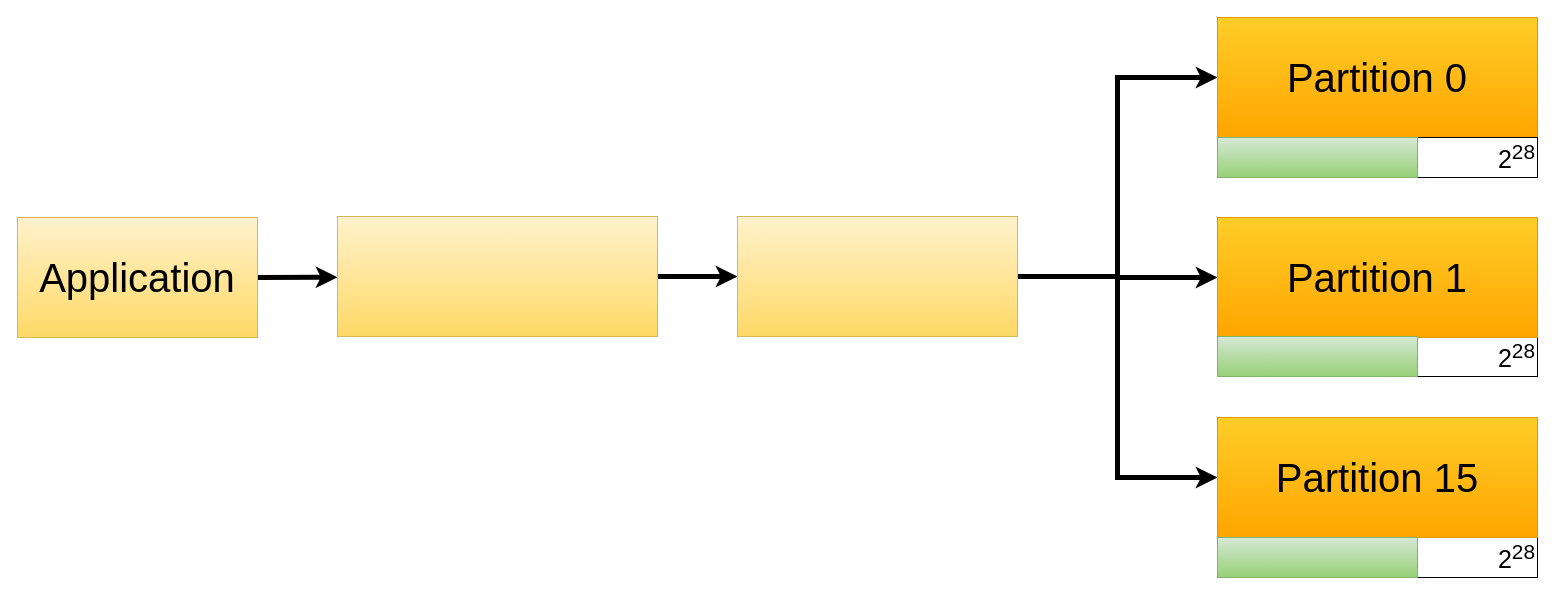
Some shapes in this 1555 by 595 pixel diagram are drawn without their labels. Each missing label, with the centre of its shape:
"hash-based routing" goes at (877,276).
"Key/value store" goes at (497,276).
